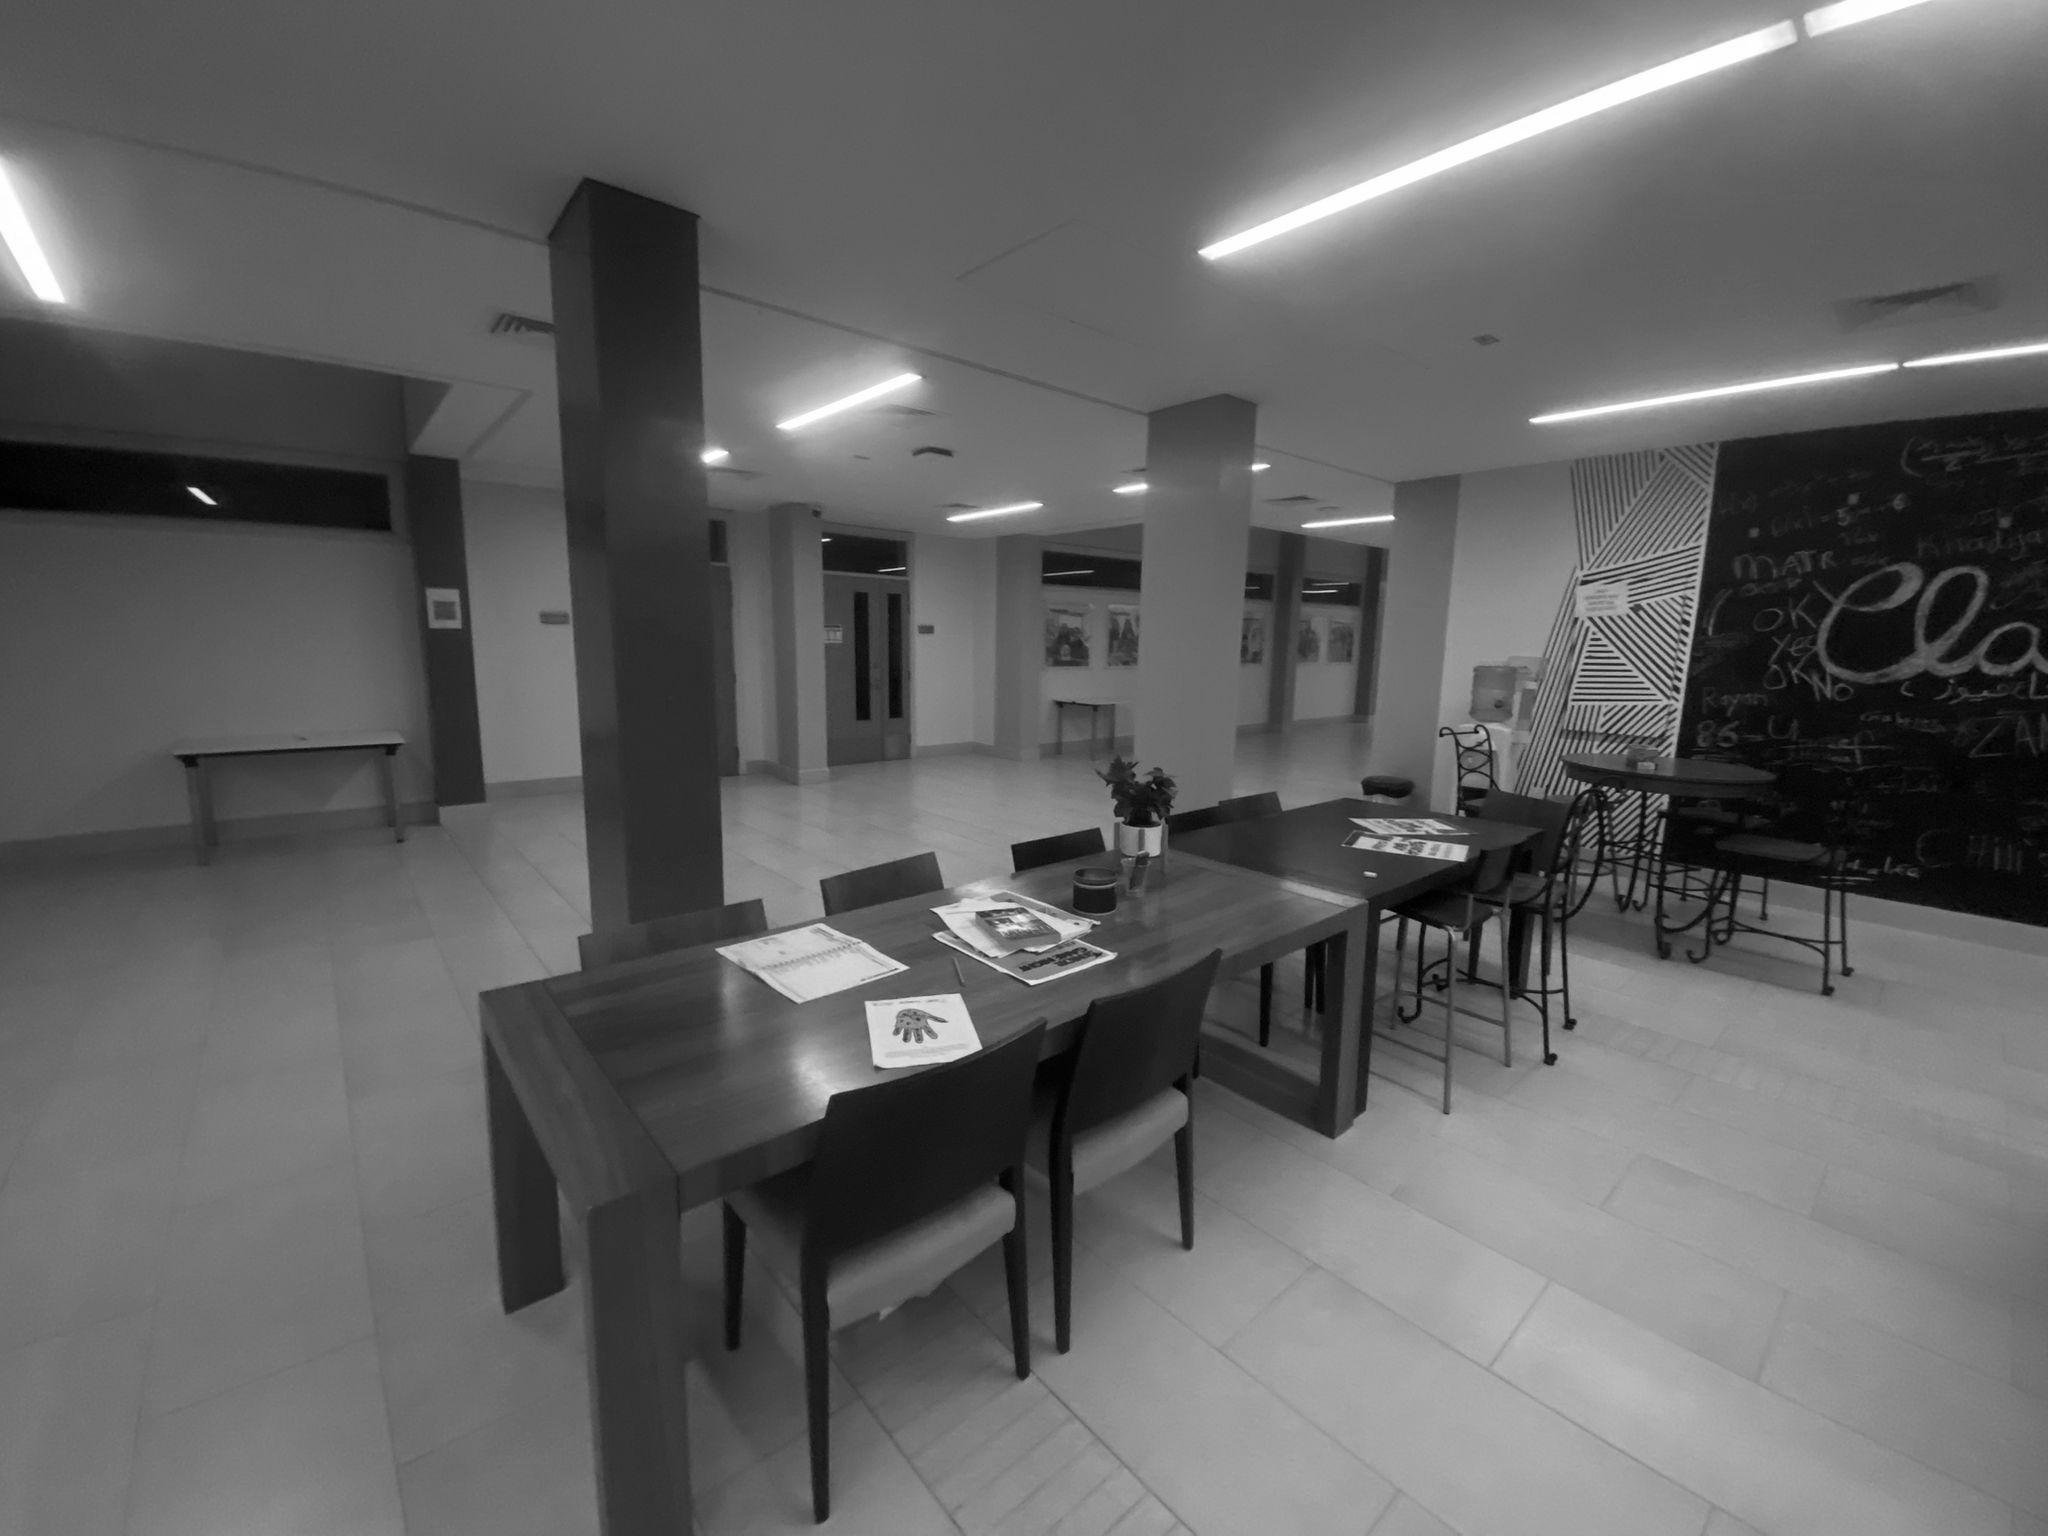Chair: (722, 1020, 1043, 1521), (1034, 952, 1221, 1352), (1367, 818, 1535, 1113), (1688, 753, 1867, 995), (1477, 789, 1576, 1049), (579, 899, 769, 968), (819, 854, 942, 915), (1438, 724, 1500, 810), (1013, 828, 1105, 871), (1168, 795, 1279, 829)
Pillar: (550, 179, 726, 926), (1134, 394, 1255, 807), (406, 453, 485, 808), (771, 503, 826, 773), (993, 534, 1042, 757), (1268, 532, 1306, 724), (1355, 552, 1385, 715)
Table: (481, 892, 951, 1534), (964, 800, 1534, 1137), (1564, 752, 1775, 912), (171, 733, 405, 863), (947, 857, 1108, 908)
Wall: (0, 516, 434, 852), (463, 482, 579, 789), (910, 537, 998, 753), (214, 753, 382, 821), (731, 520, 776, 758), (1297, 602, 1364, 721)
